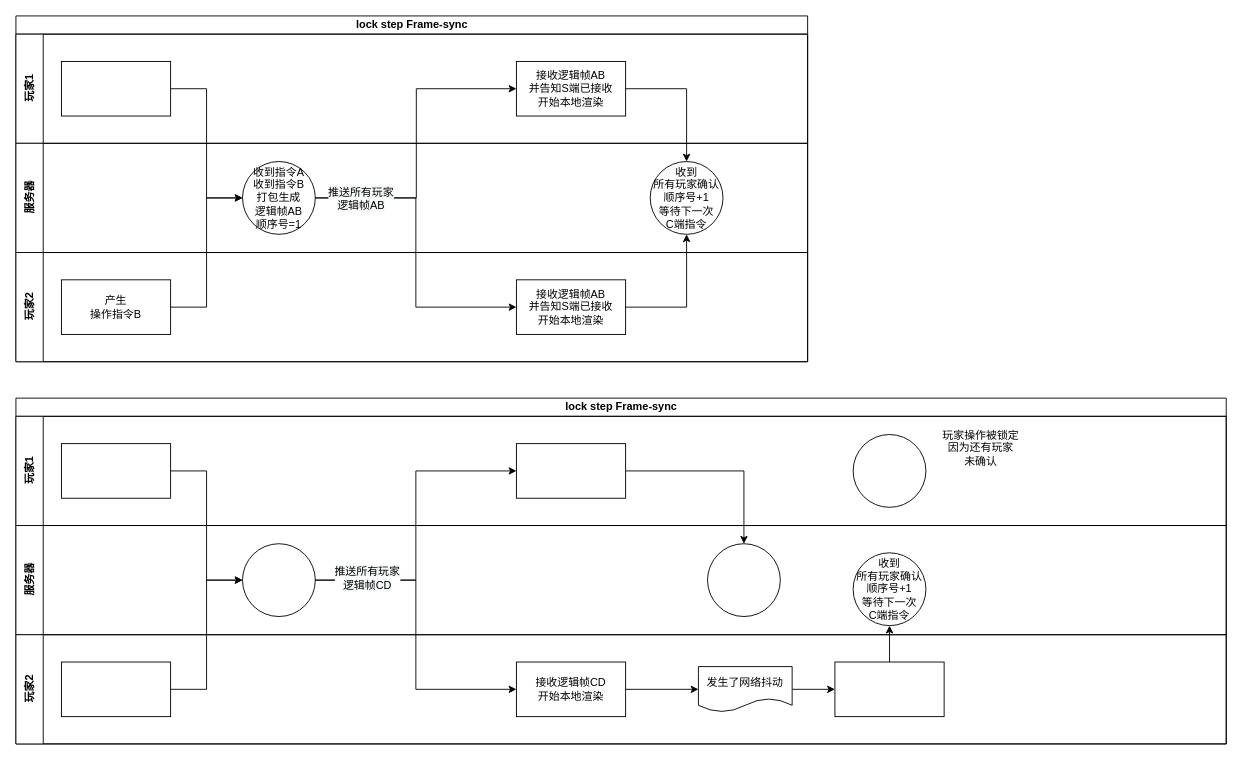
This 1242x760 diagram has some shape labels left out. Each missing label, with the box of its shape:
产生 操作指令A: (61, 61, 171, 116)
产生 操作指令C: (61, 443, 171, 498)
产生 操作指令D: (61, 661, 171, 717)
发送CD逻辑帧 确认收到指令: (834, 661, 944, 717)
接收逻辑帧CD 并告知S端已接收 开始本地渲染: (516, 443, 626, 498)
收到 玩家1确认 等待玩家2 确认: (707, 543, 780, 617)
收到指令C 收到指令D 打包生成 逻辑帧CD 顺序号=2: (242, 543, 315, 617)
等待 新的逻辑帧: (852, 434, 926, 507)
